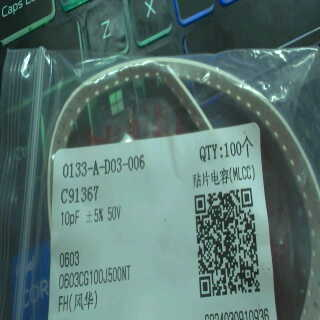10pF: (56, 206, 84, 231)
